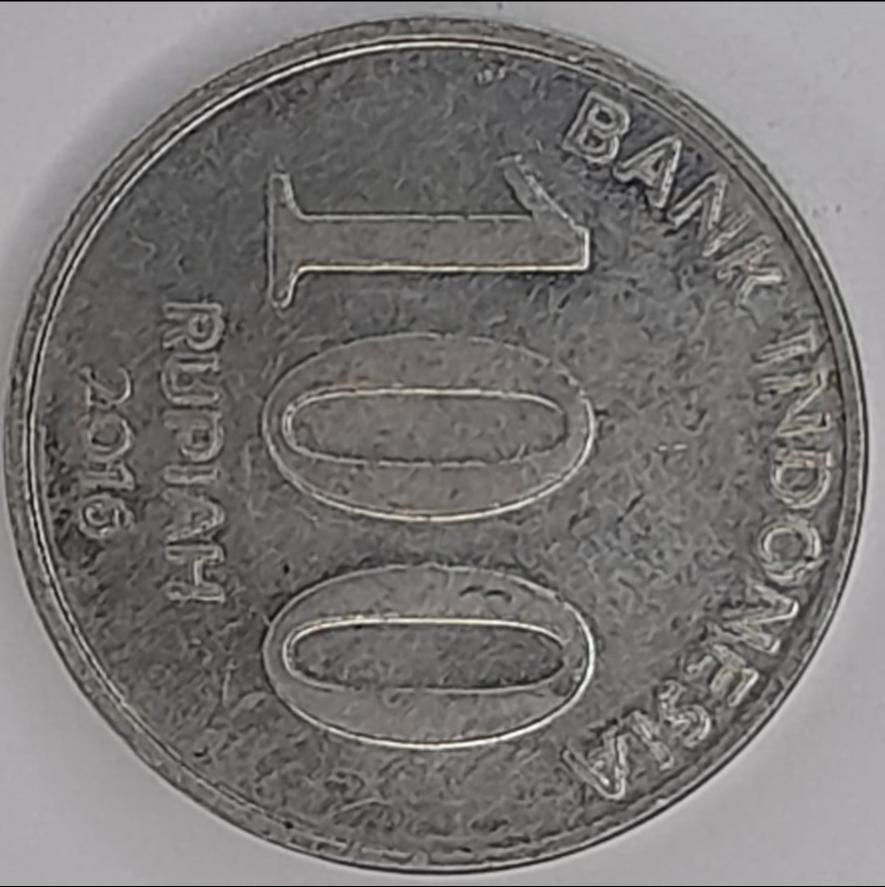coin_100_e2016: (0, 8, 873, 877)
